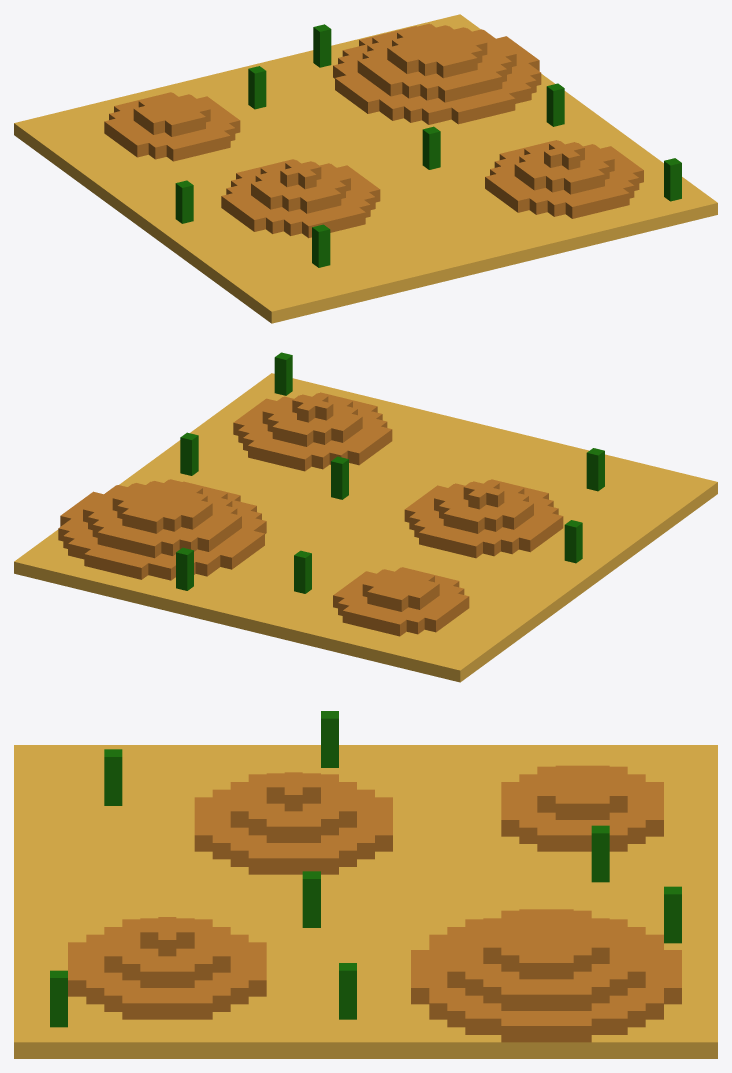
The model's file is Desert.obj.
3 views of the same model, one above another, from view 1: azimuth 30°, elevation 25°; view 2: azimuth 150°, elevation 25°; view 3: azimuth 270°, elevation 25° (orthographic). The views are drawn at different scales.
Bounding box in the file's own units: 3.9 × 0.4 × 3.9.
1 material, 1 textured.
